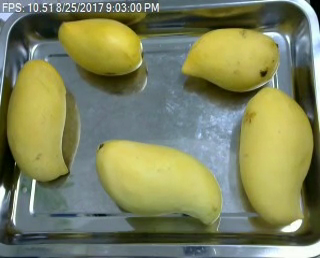Mango: (90, 137, 223, 228), (239, 88, 315, 225), (0, 54, 76, 183), (178, 24, 279, 88), (58, 16, 147, 80)
